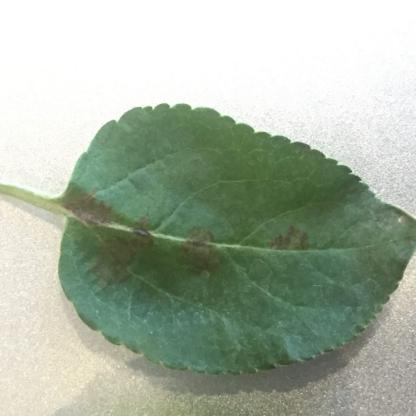apple scab leaf: (61, 118, 416, 381)
